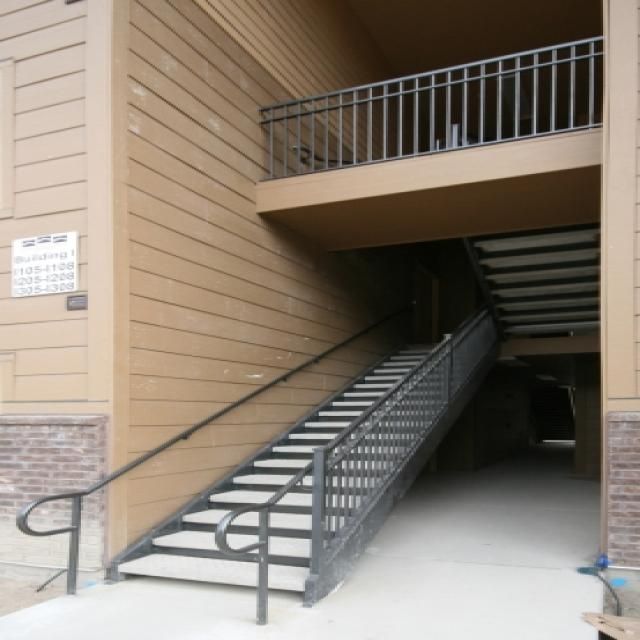upstair: (133, 316, 504, 573)
